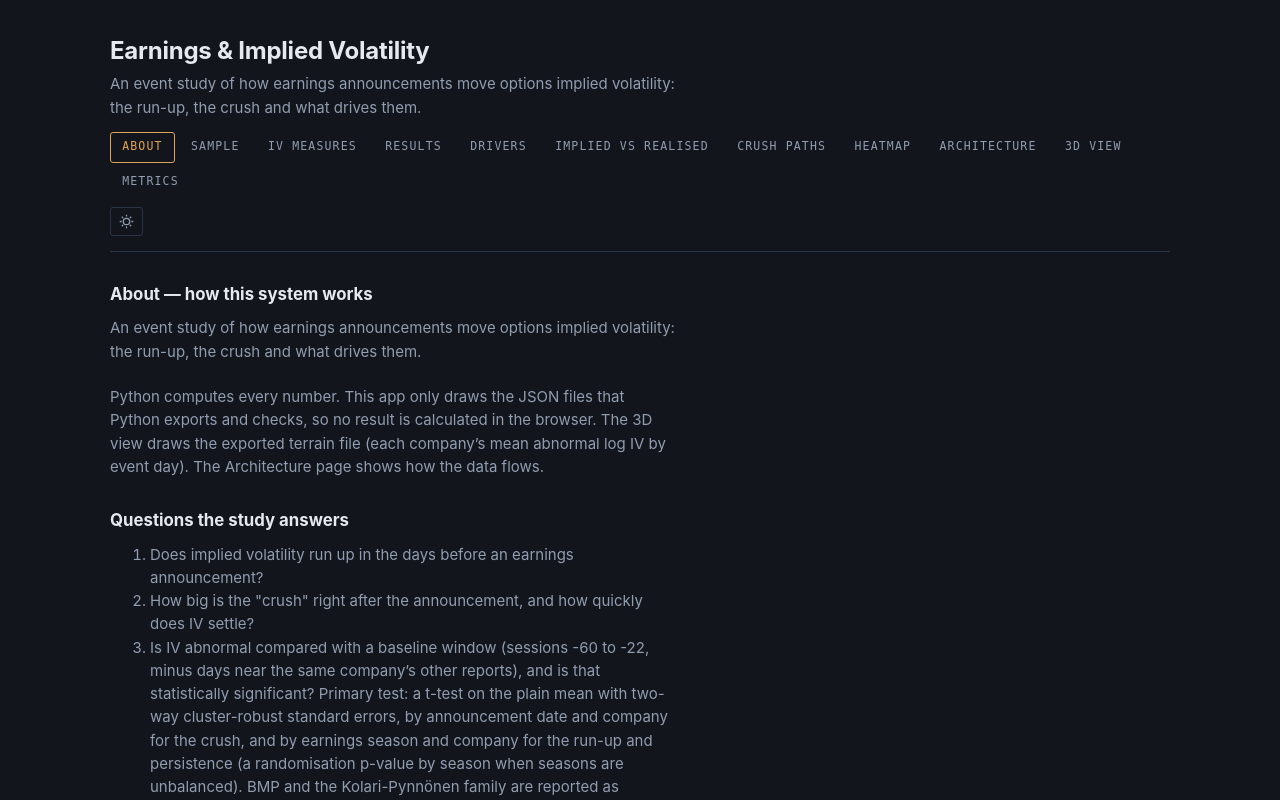
Test: App (integration) › shows the Sample page error, and keeps the app usable, when sample_funnel.json is missing
Click the link "Sample" at (215, 146), box [191, 139, 240, 153]
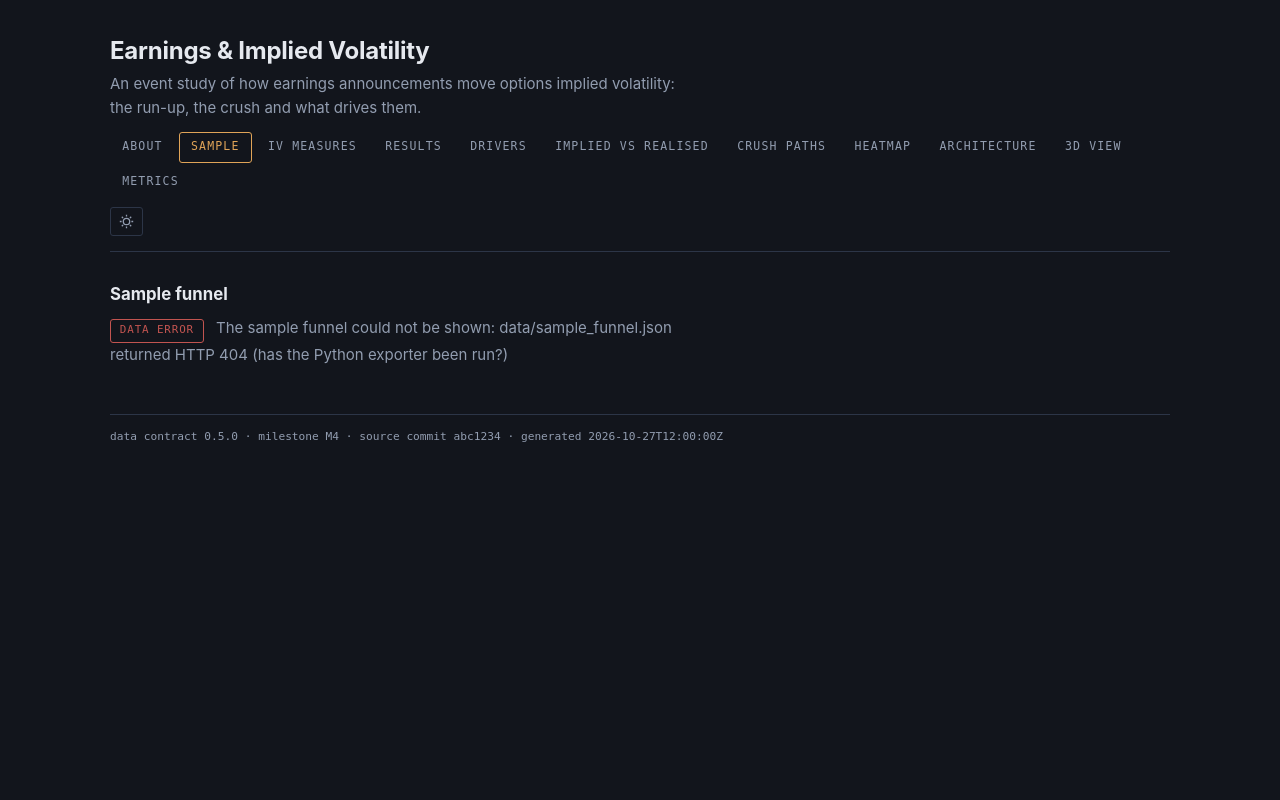
Check: the text "sample funnel could not be shown" shows "data/sample_funnel.json returned HTTP 404", box [110, 318, 672, 364]
Check: the text "source commit abc1234" is shown, box [110, 430, 723, 443]
